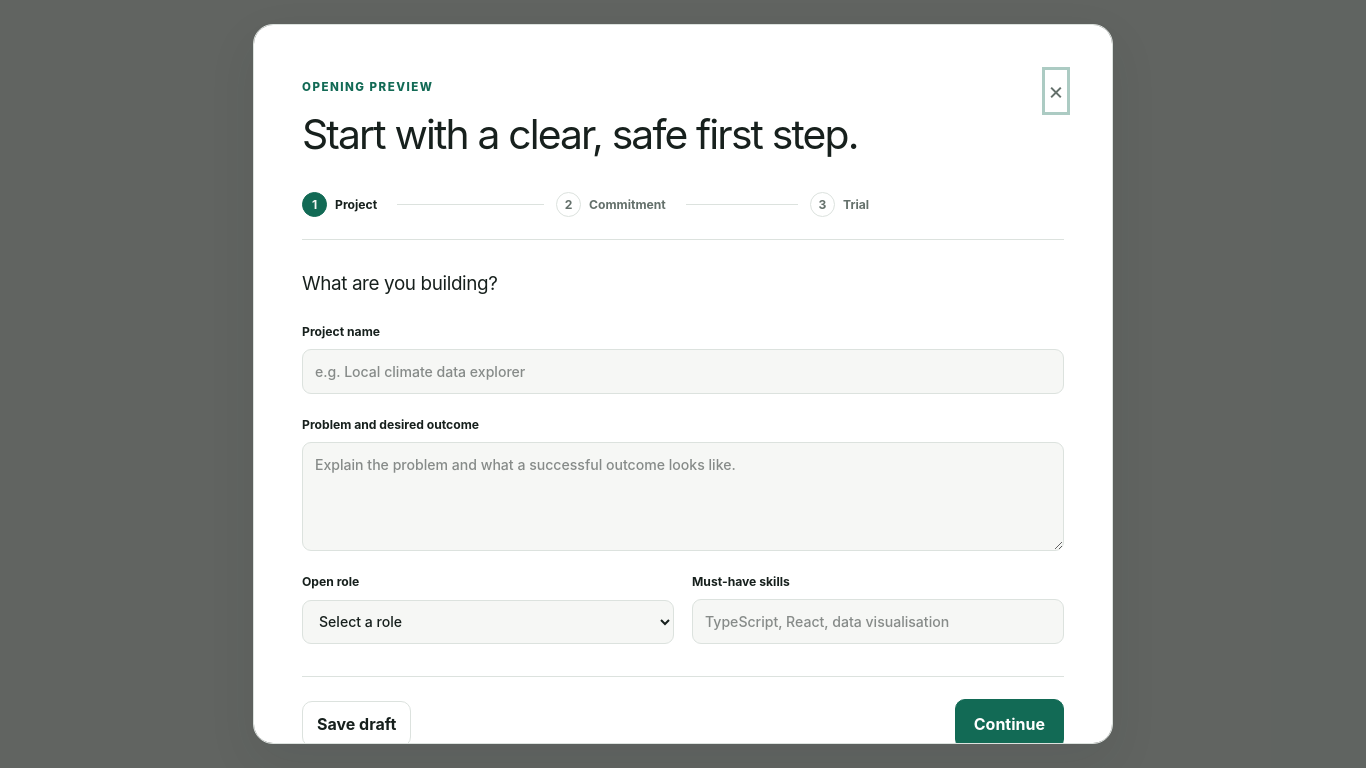
Scenario: CreateOpeningPanel › shows accessible validation errors before advancing
Click the button "Continue" at (1009, 724), box left=955, top=699, right=1064, bottom=749
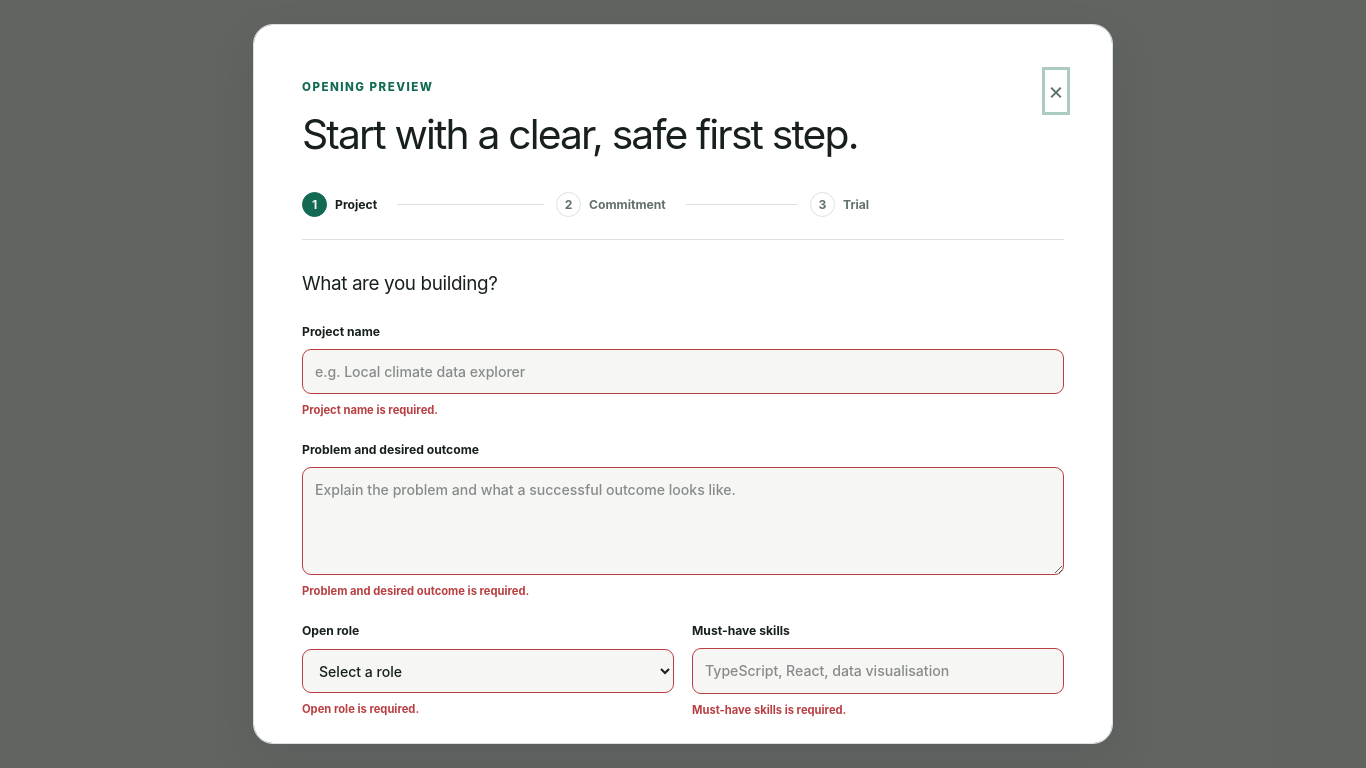
Expected: the heading "What are you building?" is shown, left=302, top=272, right=498, bottom=295
Result: the text "Project name is required." is shown at left=302, top=403, right=438, bottom=417
